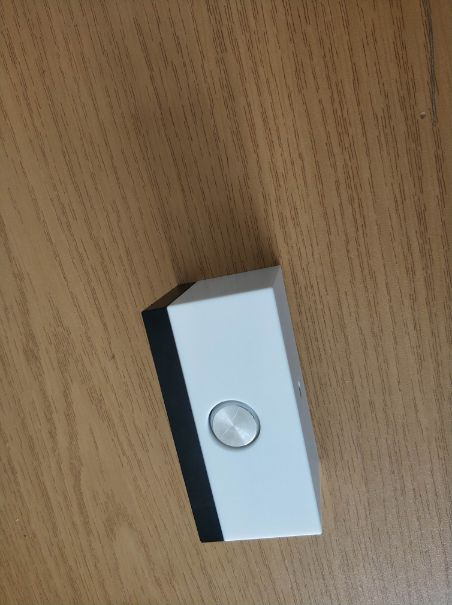black+white+silver: (136, 263, 333, 547)
